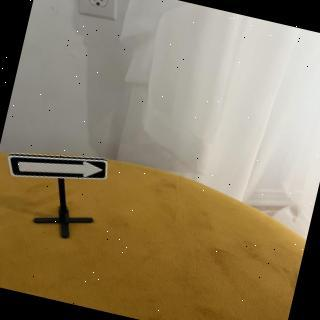sign_oneway_right: (2, 138, 112, 200)
